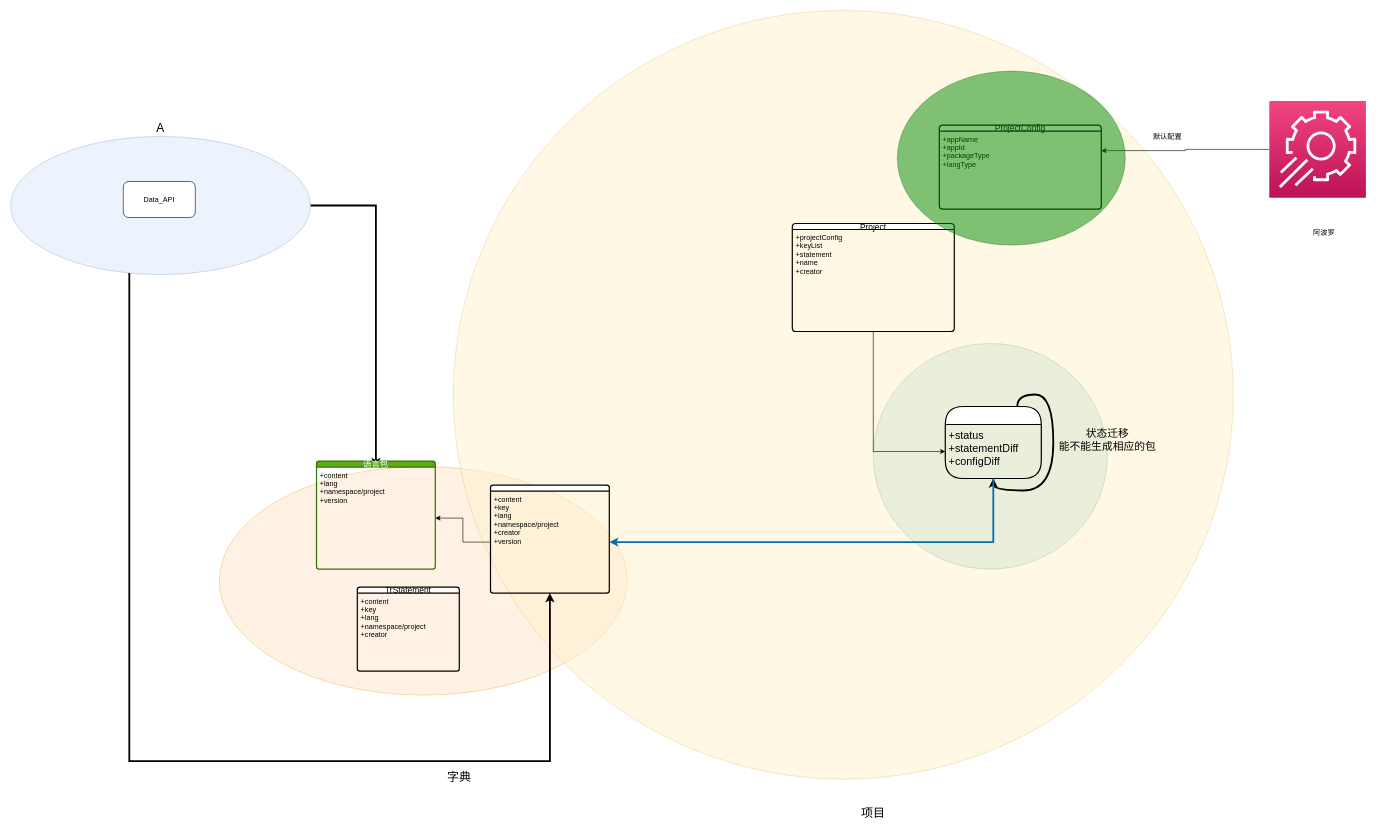
Image size: 1376x832. Some labels were removed from this diagram. Each missing label, with the box of its shape:
KeyStatement: (490, 484, 610, 593)
Task: (944, 406, 1042, 479)
